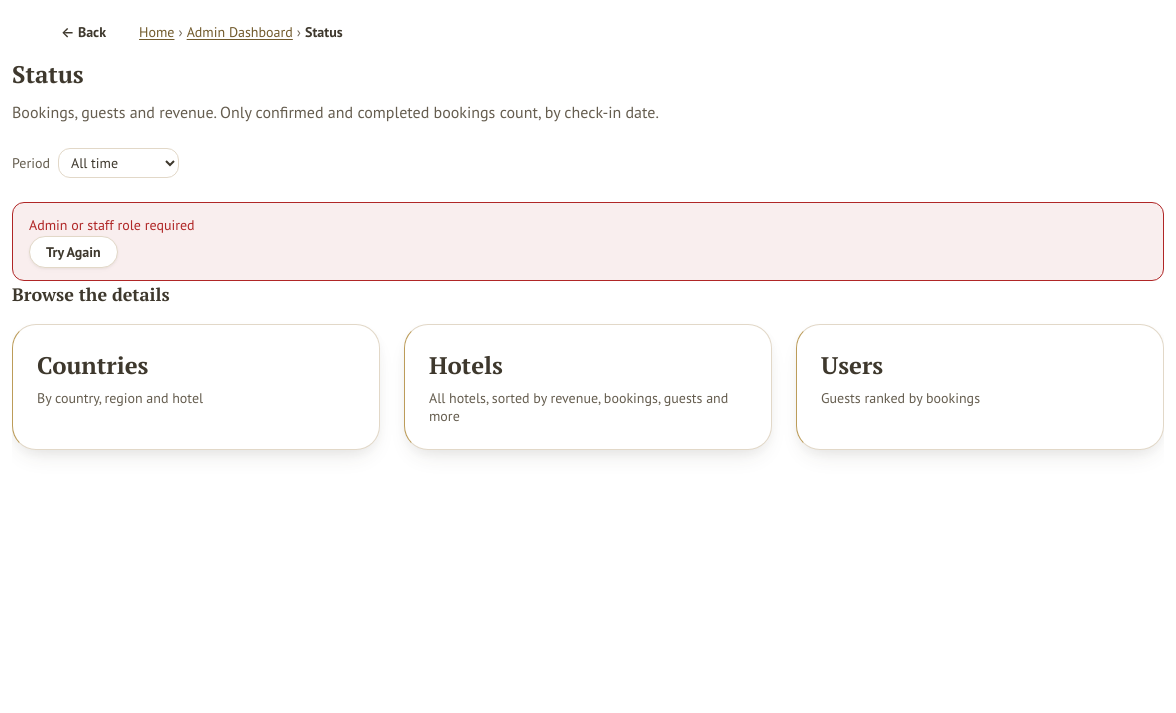
Test: AdminStatusSection › home: shows an error with a retry
The image size is (1176, 713).
Expected: the message shows "Admin or staff role required", [29,216,195,234]
Click the button "Try Again": (73, 252) [29,236,118,268]
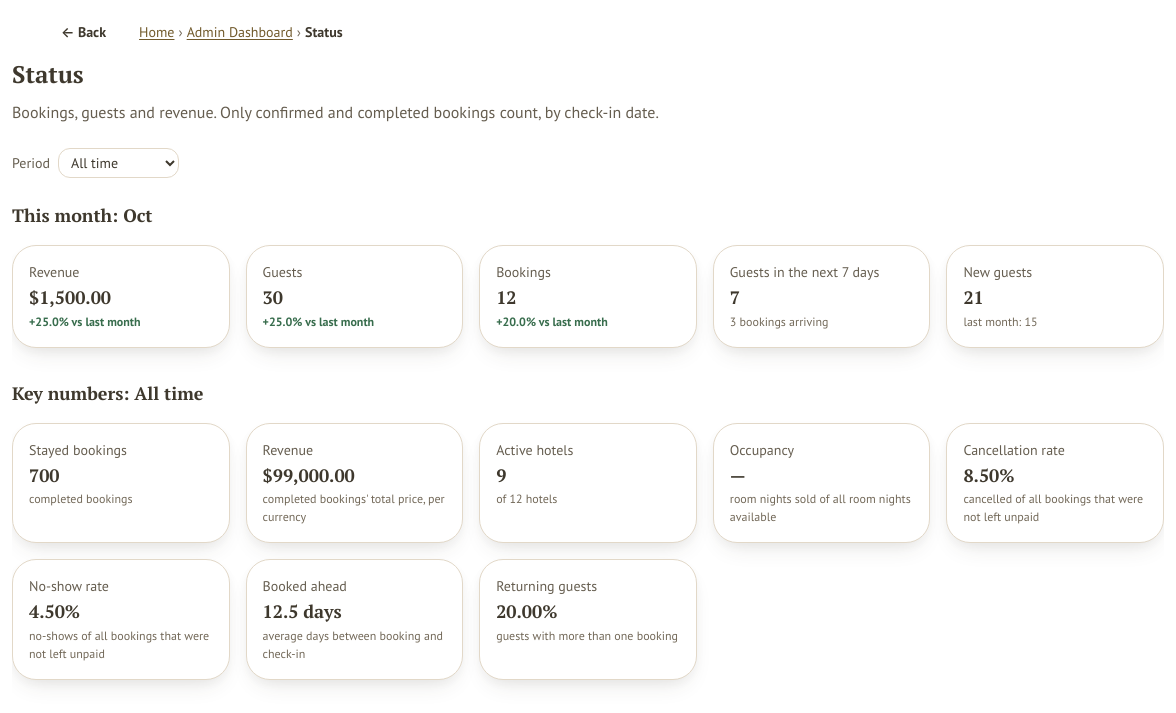
Expected: the heading "This month: Oct" is shown, [12,203,152,227]
